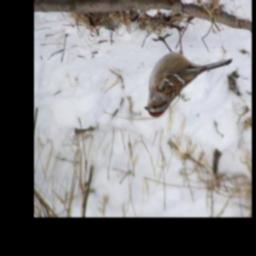Sparrow: (141, 22, 232, 122)
